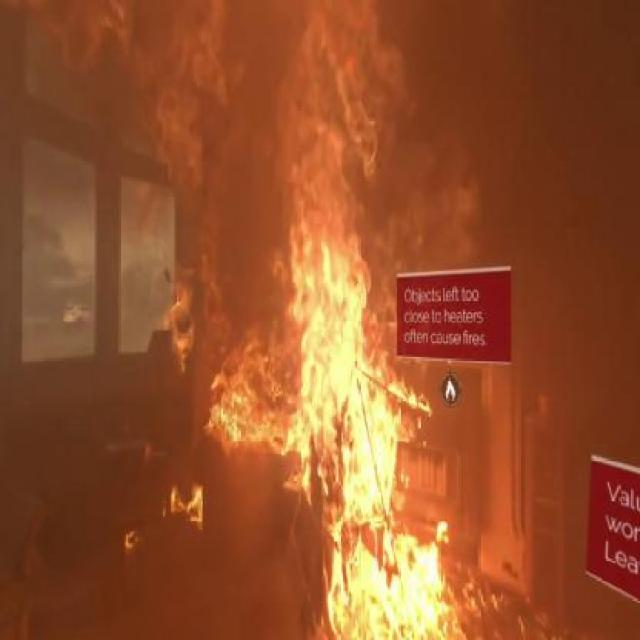fire: (309, 256, 437, 633)
smoke: (448, 1, 616, 220), (9, 32, 103, 320)
